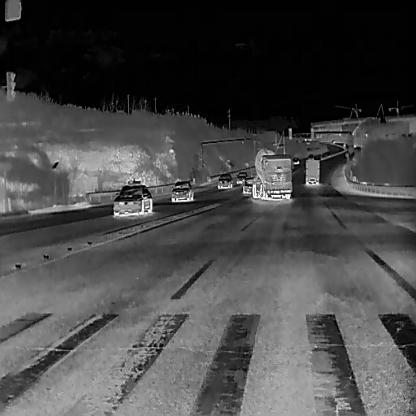car: (112, 182, 153, 217), (170, 178, 194, 202), (216, 172, 233, 188), (241, 176, 254, 193), (235, 170, 248, 184), (291, 156, 299, 164), (307, 153, 313, 159), (324, 151, 330, 156), (331, 139, 335, 143), (342, 142, 345, 146)
truck: (250, 145, 293, 200), (303, 158, 319, 186), (352, 141, 356, 148)
